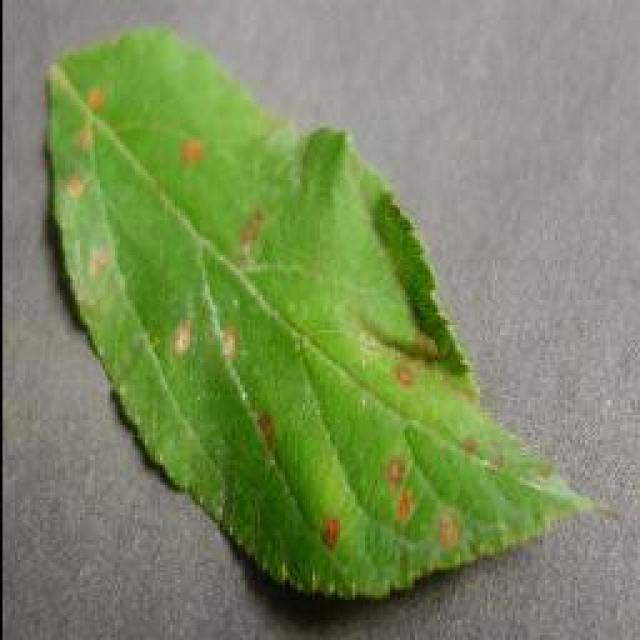apple healthy: (40, 20, 618, 602)
